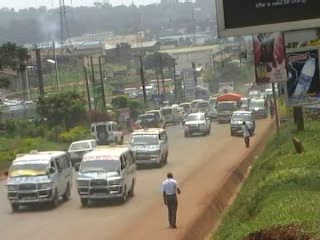Car: (88, 117, 126, 150), (67, 136, 107, 167), (139, 110, 164, 133)
